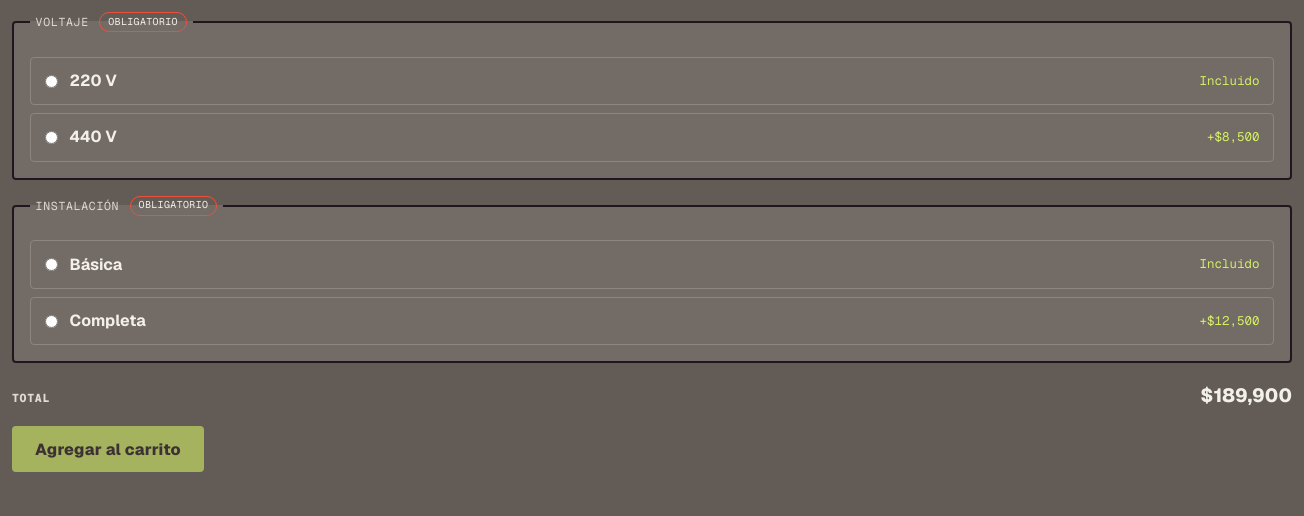
Test: shows a Spanish error when add fails
Click the radio button labelled "440 V +$8,500".
click(51, 137)  # box top-left (45, 131), bottom-right (58, 144)
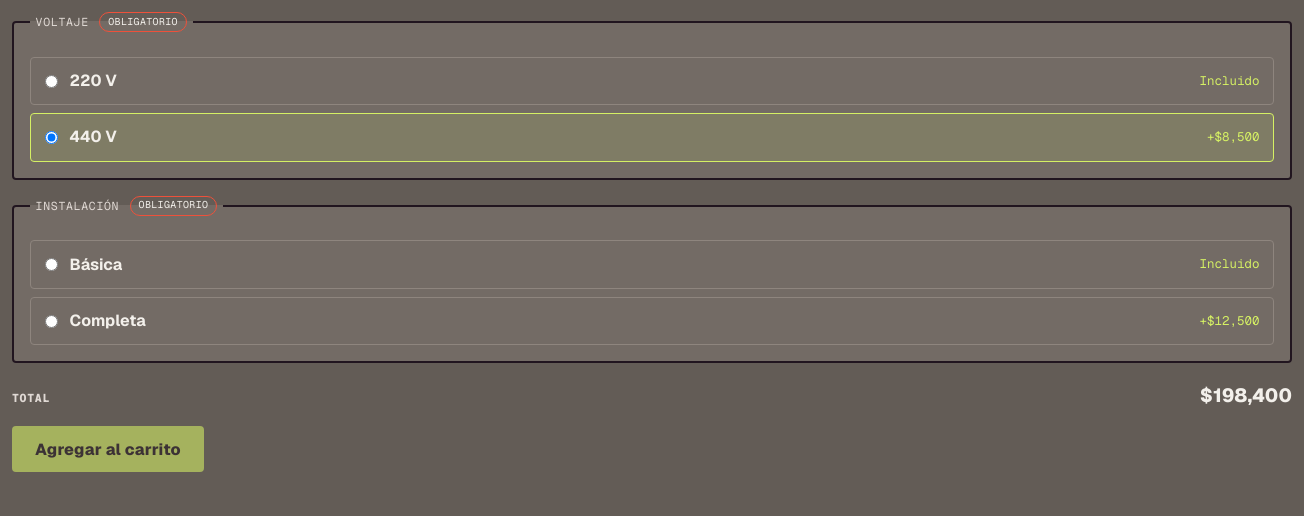
Click the radio button labelled "Completa +$12,500".
click(51, 321)  # box top-left (45, 314), bottom-right (58, 328)
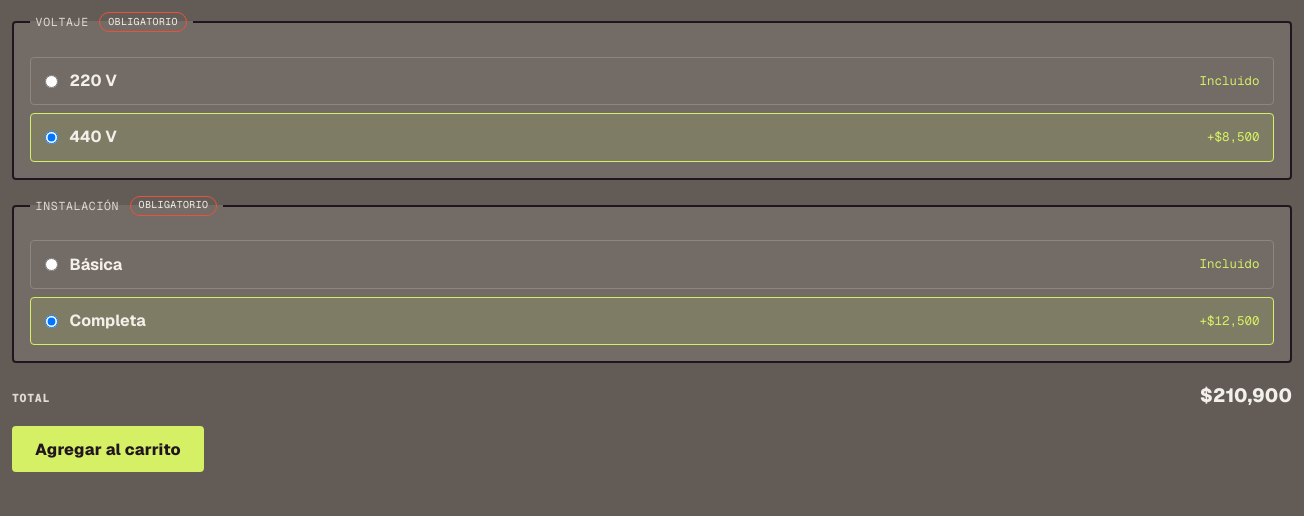
Click the button "Agregar al carrito".
click(108, 449)  # box top-left (12, 426), bottom-right (204, 472)
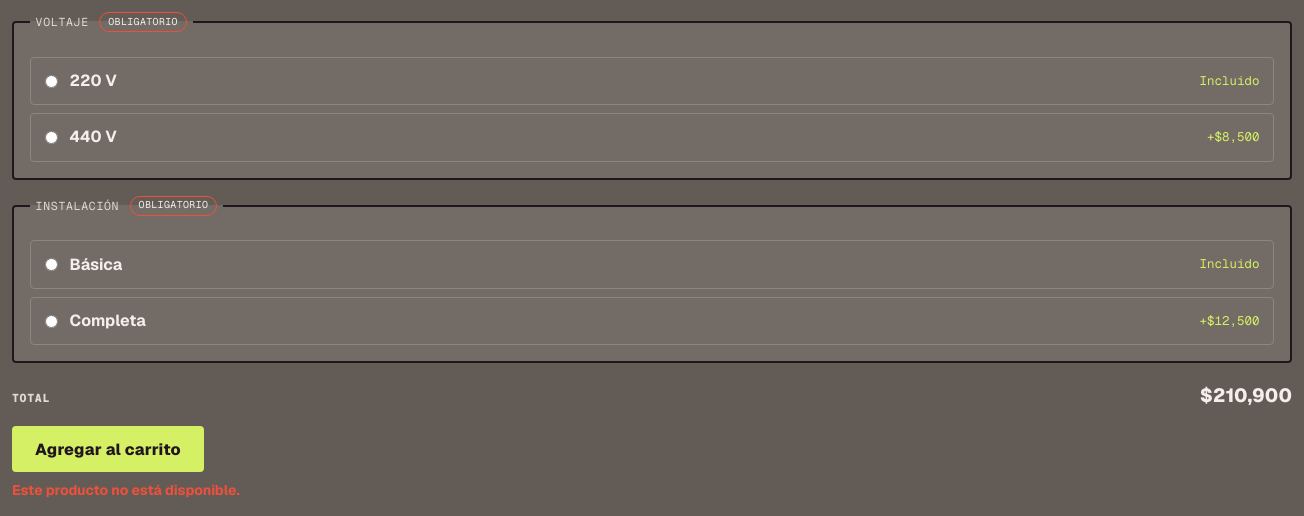
Now the message reads "Este producto no está disponible.", box top-left (12, 481), bottom-right (240, 499)
